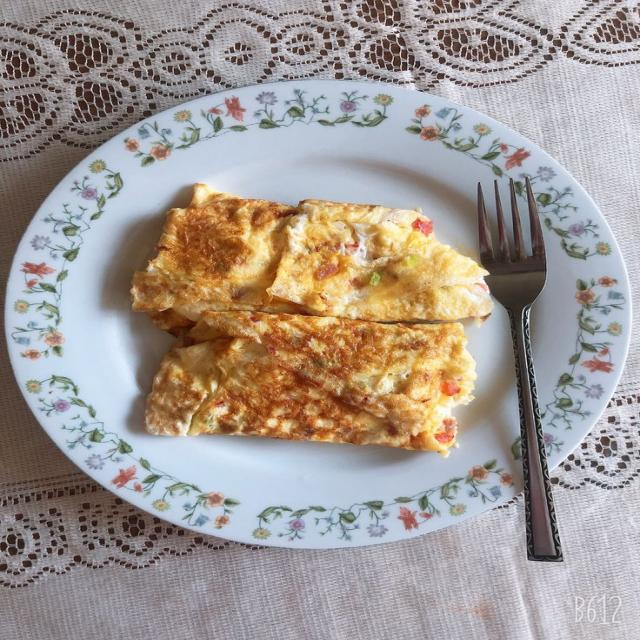omelette: (132, 184, 492, 334), (146, 312, 475, 454), (269, 200, 492, 320), (132, 184, 297, 332)
